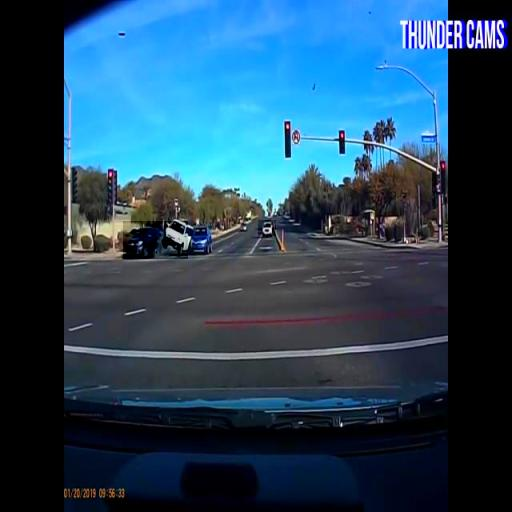小汽车: (190, 226, 211, 252), (258, 220, 276, 236)
小汽车撞小汽车: (123, 221, 188, 259)
